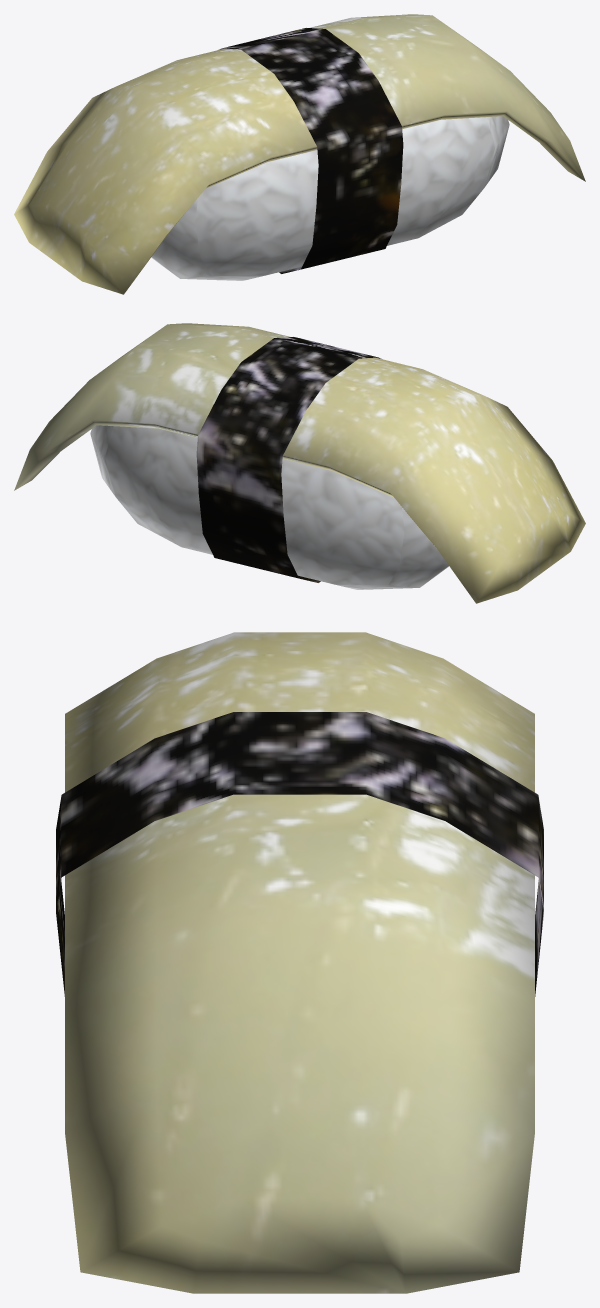
The model's file is squid_2.fbx.
3 views of the same model, one above another, from view 1: azimuth 30°, elevation 25°; view 2: azimuth 150°, elevation 25°; view 3: azimuth 270°, elevation 25° (orthographic). The views are drawn at different scales.
Visible parts, largest first — view 1: squid_2; view 2: squid_2; view 3: squid_2.
Part boxes in pixels (x1,y1,x2,y2): squid_2: [14, 14, 585, 294]; squid_2: [14, 323, 585, 603]; squid_2: [56, 632, 543, 1293].
Bounding box in the file's own units: 7.62 × 2.9 × 3.29.
